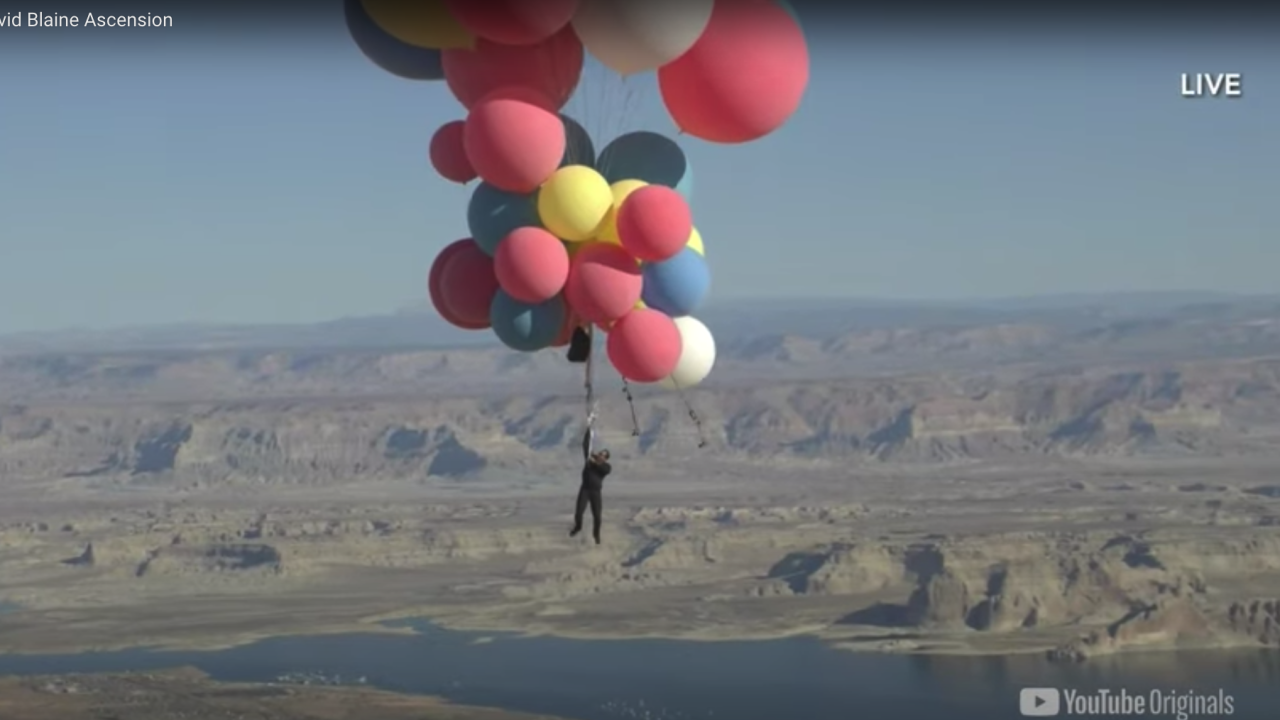Balloon: (660, 1, 810, 142), (466, 85, 565, 192), (564, 242, 644, 323), (495, 226, 571, 302), (617, 184, 692, 261), (607, 308, 683, 383), (537, 165, 612, 240), (639, 246, 707, 315)
